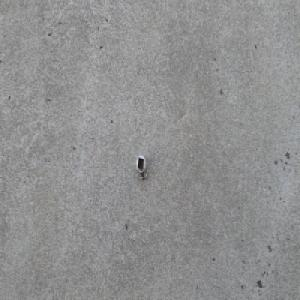MetalPart: (135, 154, 148, 183)
